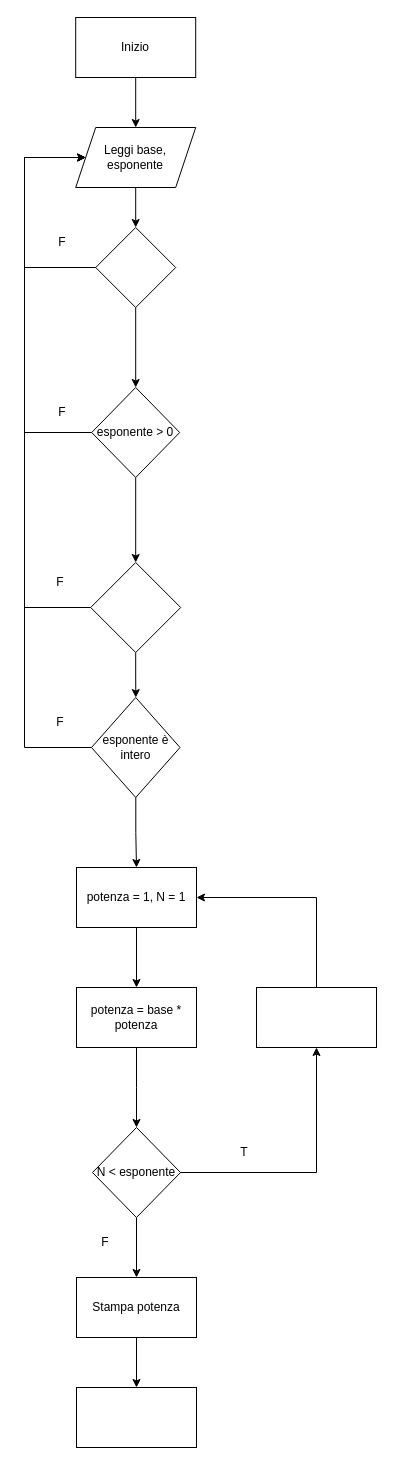
This 394x1465 diagram has some shape labels left out. Here are the shapes that lost their labels. From the top down, the centre of each, then its label:
At (x=135, y=267): "base > 0".
At (x=135, y=607): "base è intero".
At (x=316, y=1017): "N = N +1".
At (x=136, y=1417): "Fine".
